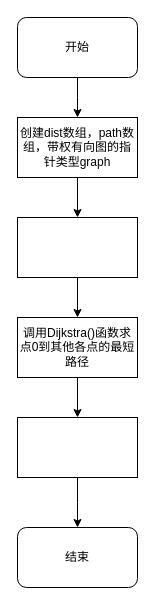
Some shapes in this 155 by 605 pixel diagram are drawn without their labels. Each missing label, with the box of its shape:
调用CreateGraph()函数创建一个有向图: (16, 216, 138, 278)
调用Print()函数打印用Dijkstra()函数求得得最短路径信息: (16, 416, 138, 478)
